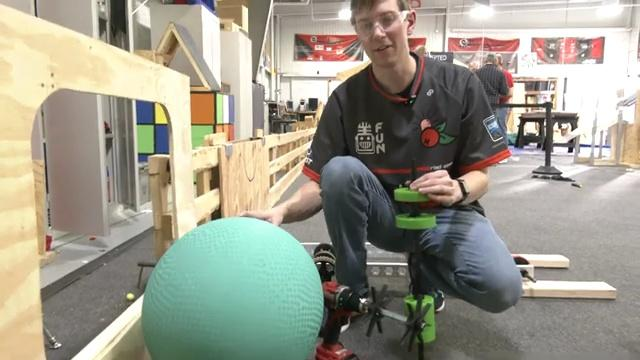ALGAE: (140, 215, 325, 358)
